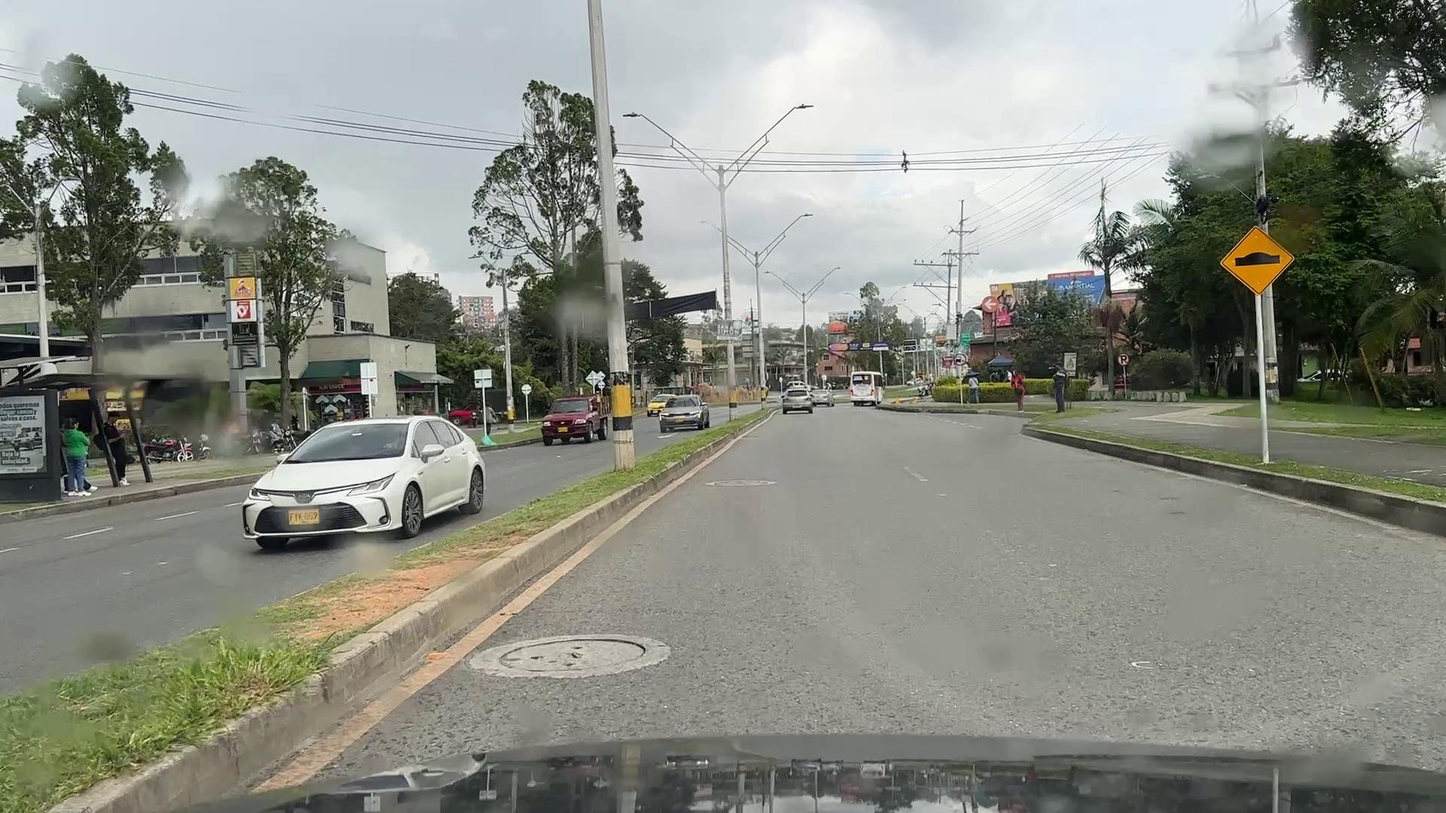registro: (500, 639, 645, 671), (714, 481, 768, 485)
